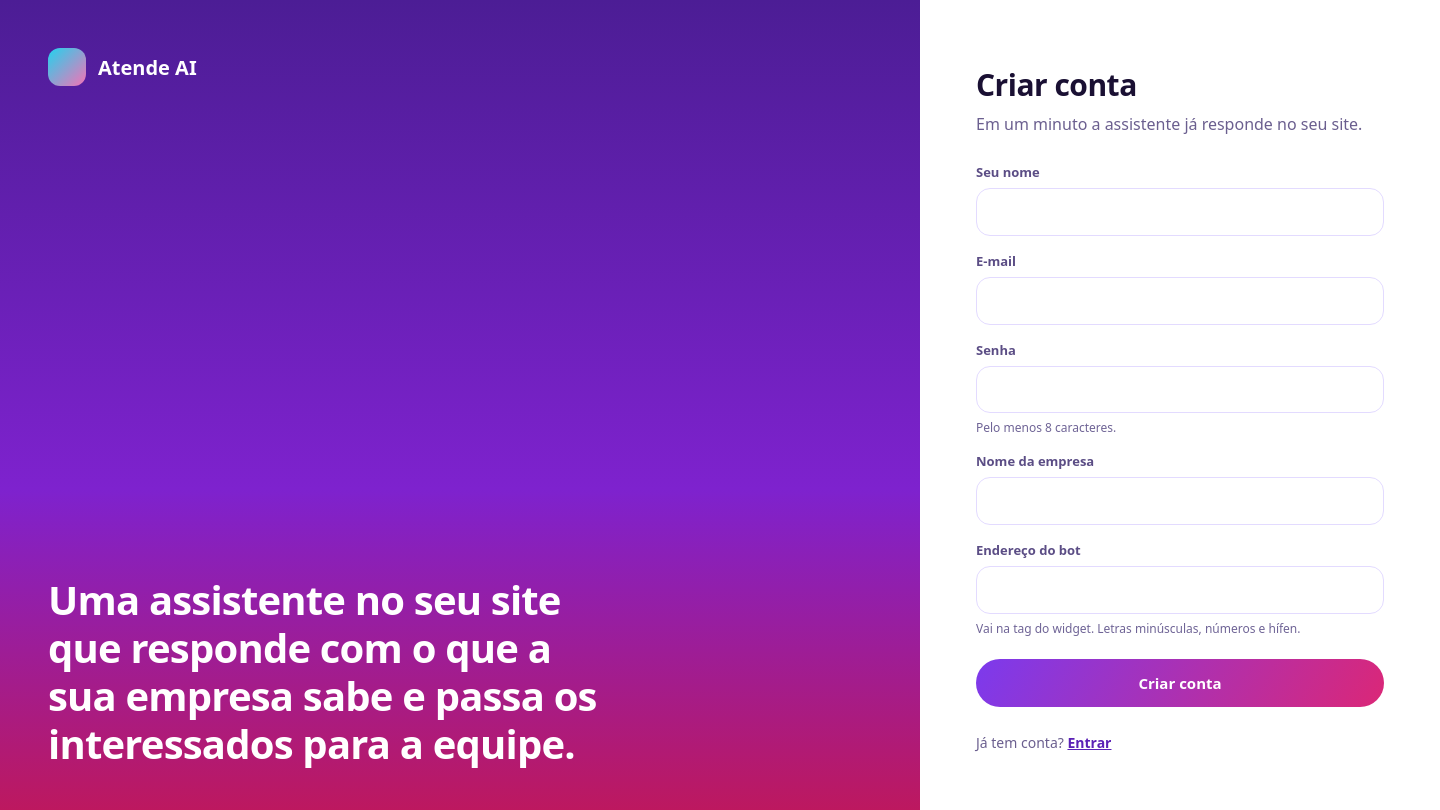
Scenario: acesso › cadastro sugere o endereço pelo nome da empresa e mostra erro por campo
Type "Ana" into the field labelled "Seu nome" at [1180, 212], box [976,188,1384,236]
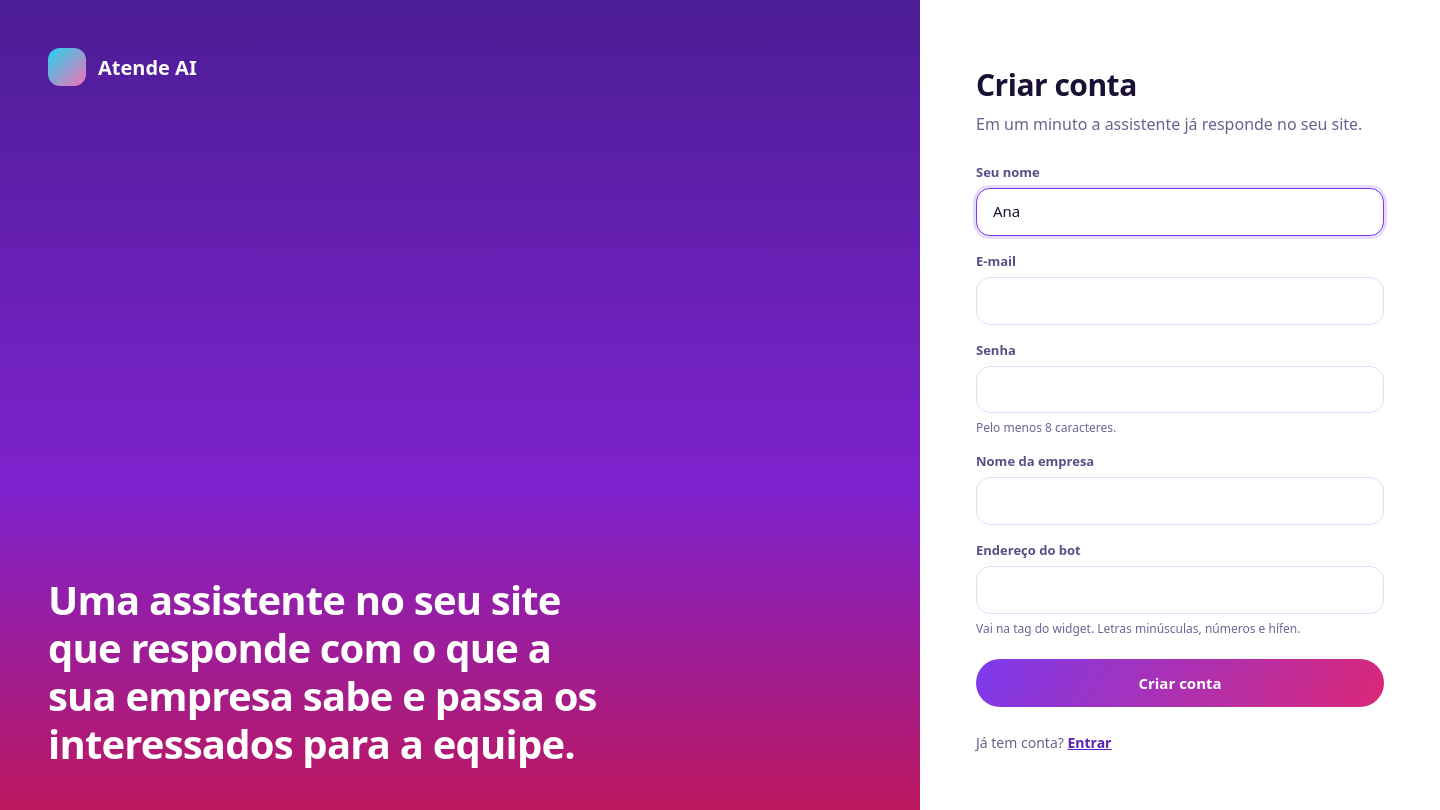
Type "ana@x.com" into the field labelled "E-mail" at [1180, 301], box [976,277,1384,325]
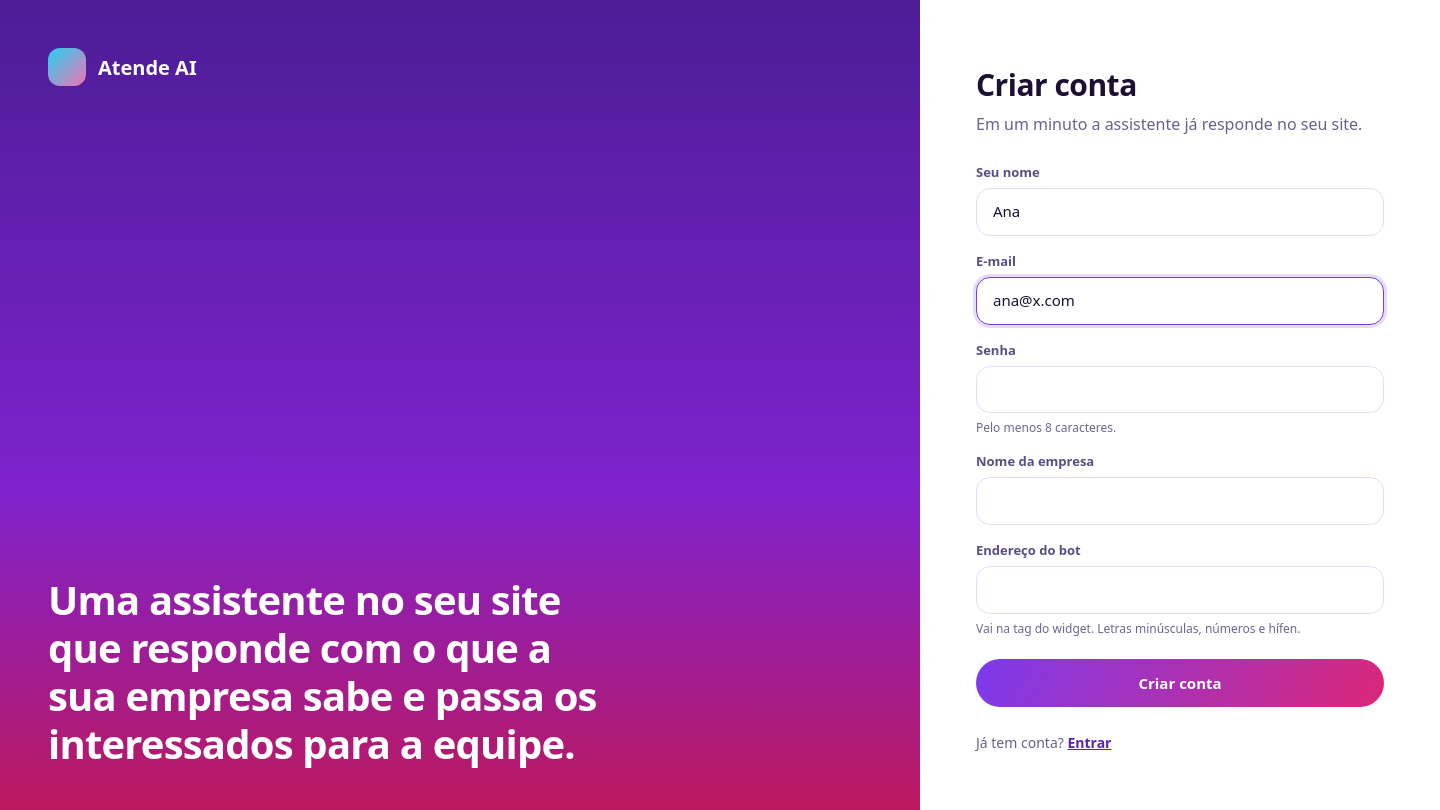
Type "segredo-bom" into the password field labelled "Senha" at [1180, 389], box [976,366,1384,413]
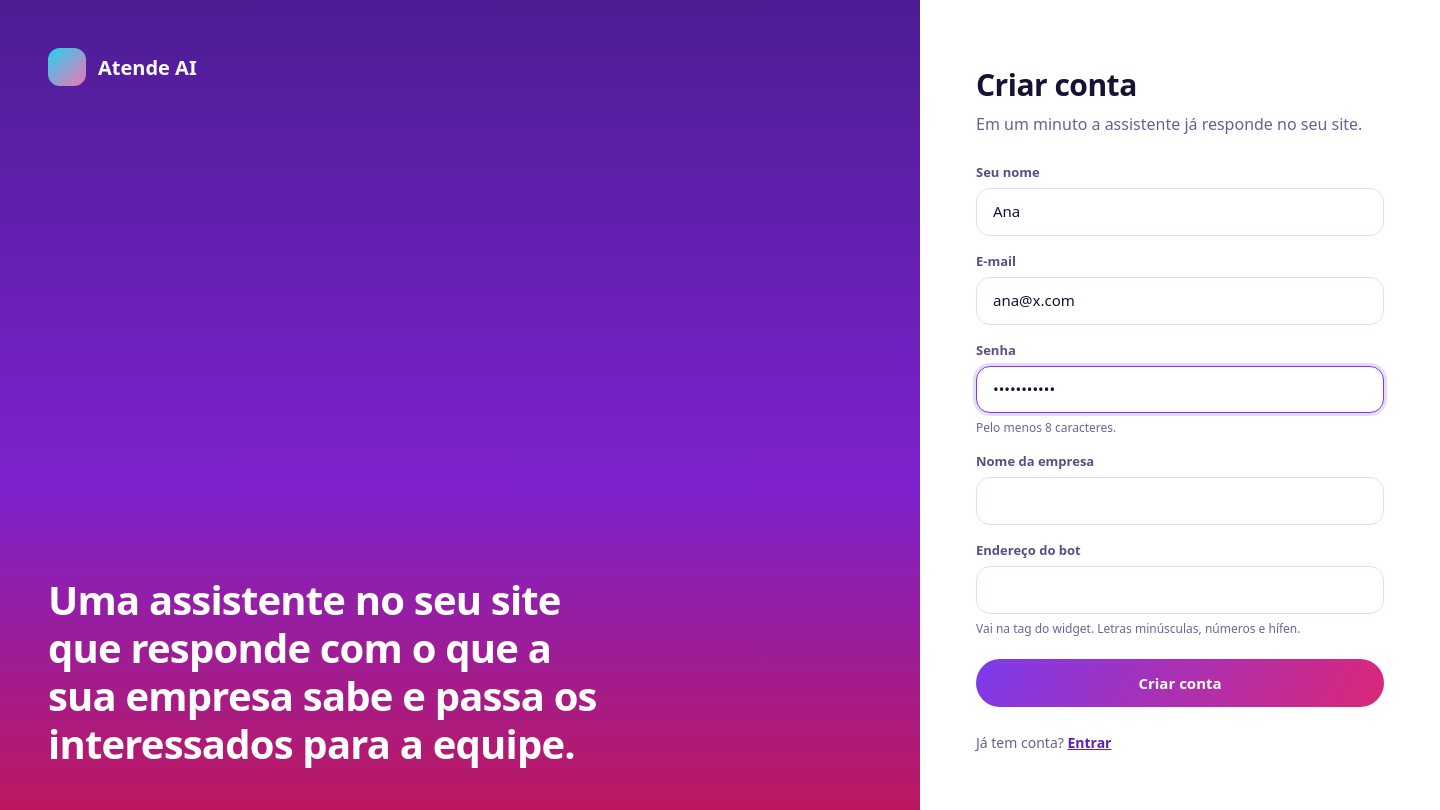
Type "Padaria Pão de Ouro" into the field labelled "Nome da empresa" at [1180, 501], box [976,477,1384,525]
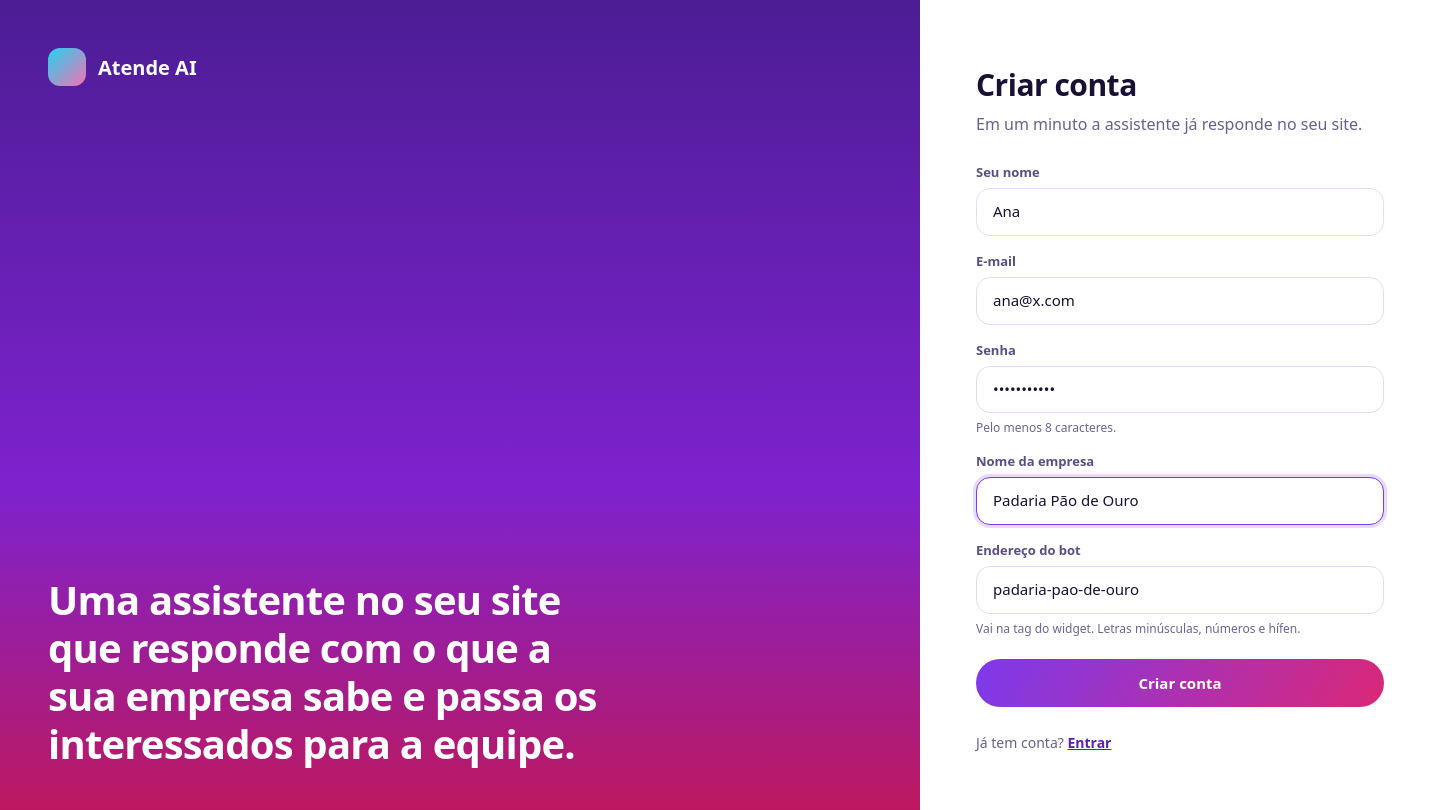
Check: the field labelled "Endereço do bot" holds "padaria-pao-de-ouro", box [976,566,1384,614]
Click the button "Criar conta" at [1180, 683], box [976,659,1384,707]
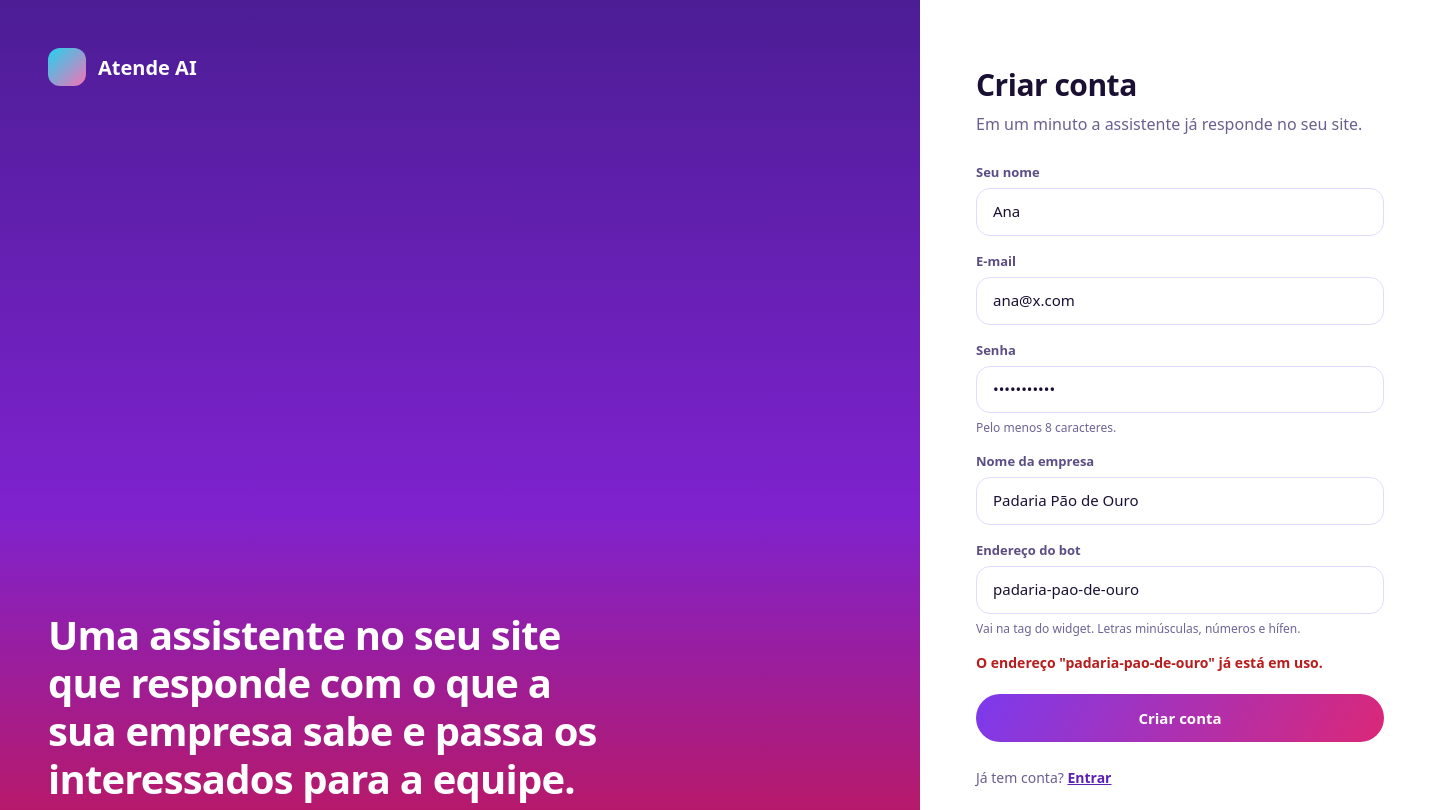
Check: the message shows "já está em uso", box [976,653,1323,672]
